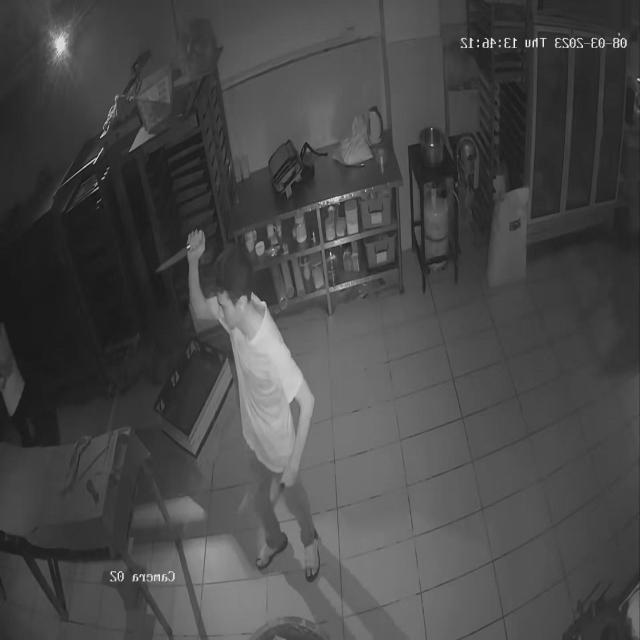Knife: (142, 228, 219, 276)
